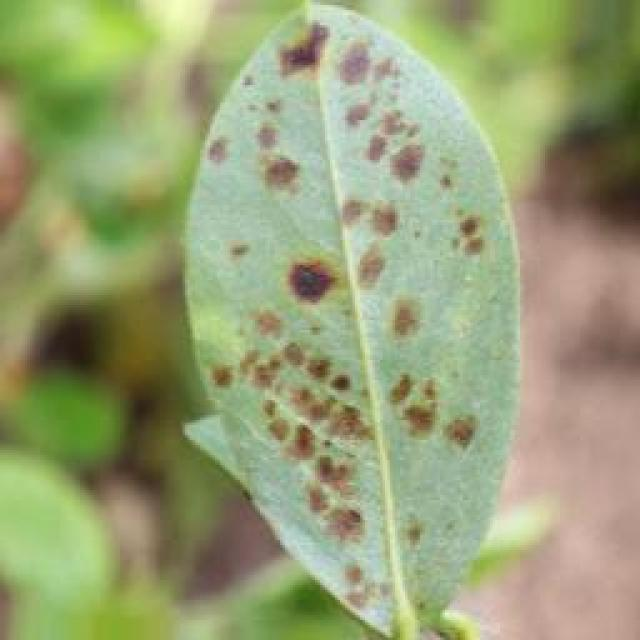Whitefly: (157, 0, 515, 634)
